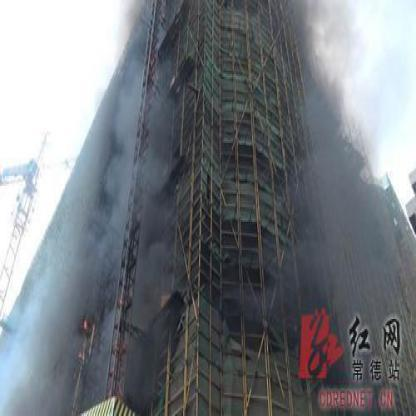smoke: (305, 141, 367, 283), (11, 270, 75, 392), (74, 142, 116, 262), (306, 10, 350, 123), (136, 254, 157, 387), (146, 114, 166, 218)
